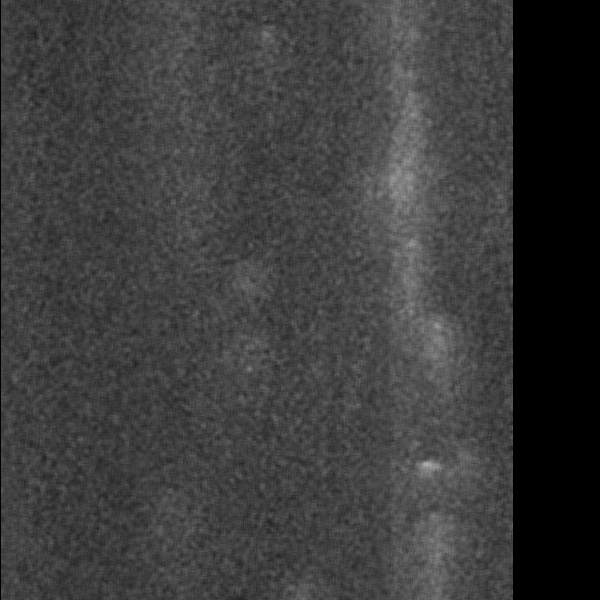spark: (404, 453, 449, 490)
